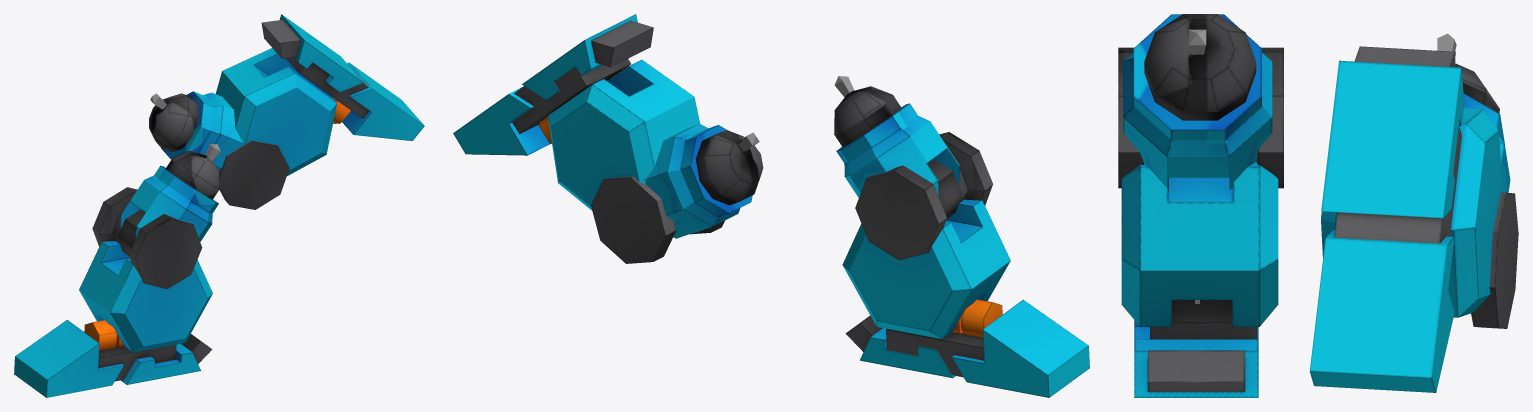
File: Bottom_Running20.obj
The picture shows the model from 3 angles, left to right: view 1: azimuth 30°, elevation 25°; view 2: azimuth 150°, elevation 25°; view 3: azimuth 270°, elevation 25°; orthographic projection. The views are drawn at different scales.
Parts seen in each view (by area): view 1: Object013, Object010, Object014, Object011, Object012, Object009; view 2: Object013, Object010, Object014, Object011, Object009, Object012; view 3: Object011, Object013, Object012, Object010, Object014, Object009, Bone023.
Part boxes in pixels (left/top/right/bottom): Object013: left=79, top=187, right=212, bottom=352; Object010: left=215, top=48, right=336, bottom=209; Object014: left=14, top=320, right=212, bottom=397; Object011: left=261, top=14, right=424, bottom=140; Object012: left=120, top=151, right=219, bottom=241; Object009: left=149, top=91, right=243, bottom=170; Object013: left=842, top=132, right=1010, bottom=339; Object010: left=548, top=59, right=724, bottom=263; Object014: left=845, top=299, right=1089, bottom=397; Object011: left=453, top=14, right=653, bottom=155; Object009: left=645, top=124, right=763, bottom=238; Object012: left=834, top=86, right=960, bottom=197; Object011: left=1309, top=46, right=1464, bottom=392; Object013: left=1118, top=47, right=1283, bottom=326; Object012: left=1123, top=14, right=1272, bottom=191; Object010: left=1321, top=108, right=1518, bottom=328; Object014: left=1134, top=300, right=1258, bottom=397; Object009: left=1455, top=63, right=1510, bottom=192; Bone023: left=1188, top=29, right=1206, bottom=54.
Bounding box in the file's own units: 217 × 122 × 91.27.
